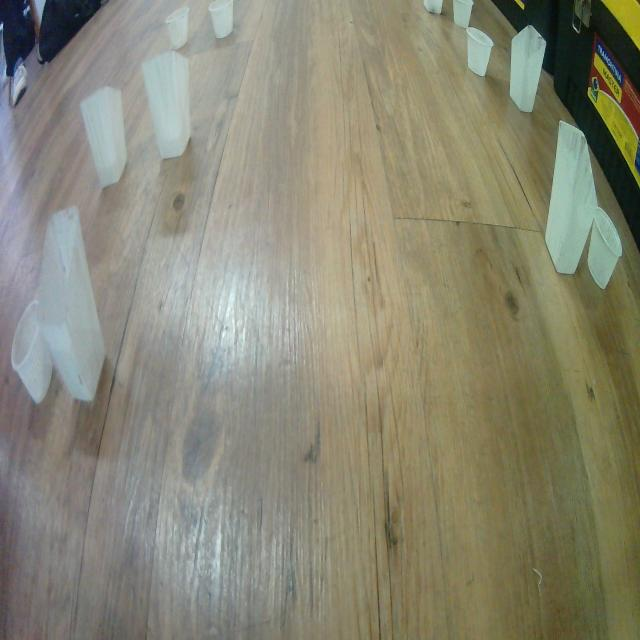erva_daninha: (31, 205, 106, 404), (544, 119, 598, 276), (140, 48, 192, 161), (80, 86, 129, 190), (510, 23, 547, 114)
planta: (10, 298, 53, 405), (587, 207, 623, 291), (466, 26, 494, 78), (165, 6, 190, 49), (208, 0, 234, 39), (453, 0, 473, 28)
